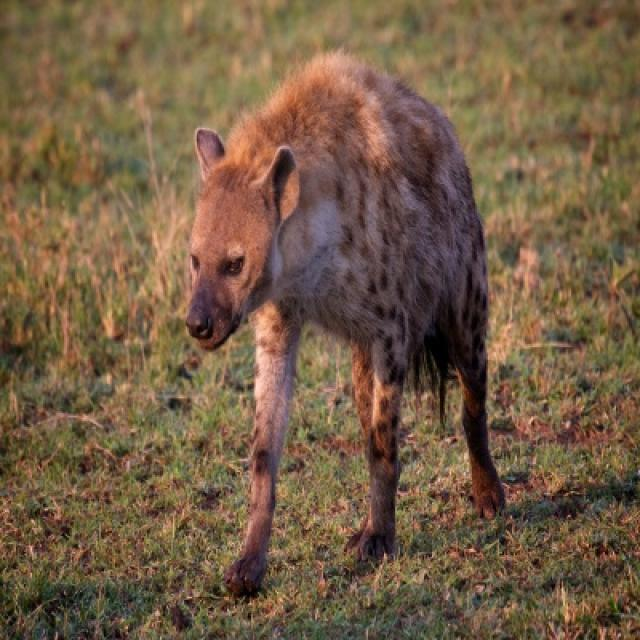hyena: (189, 53, 502, 589)
